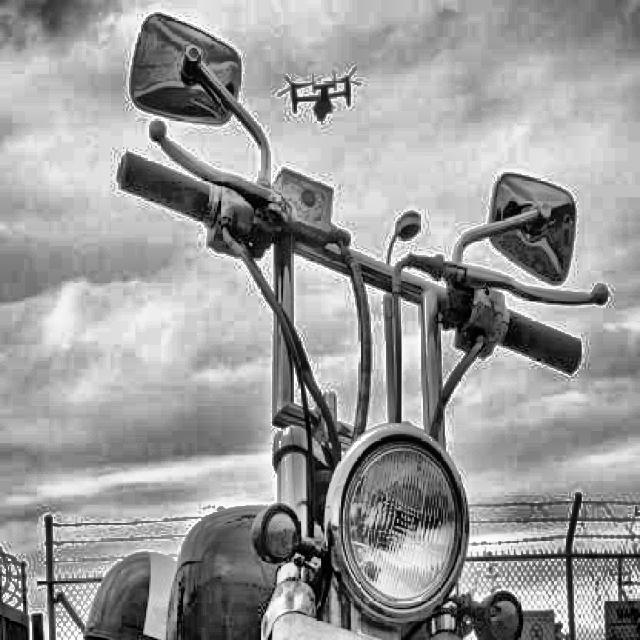V22: (278, 66, 360, 125)
